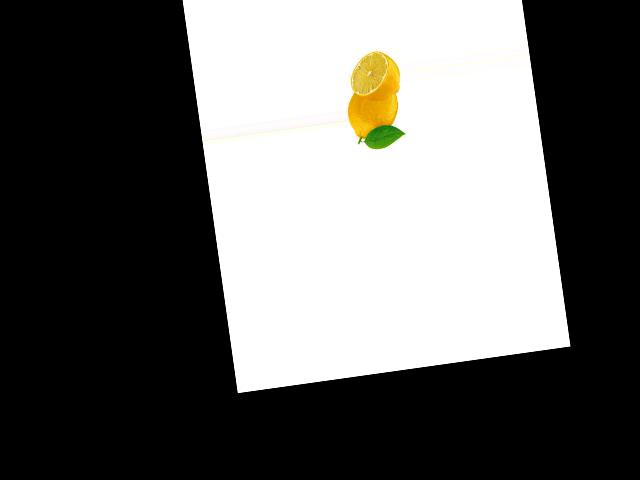lemon: (344, 85, 404, 145)
